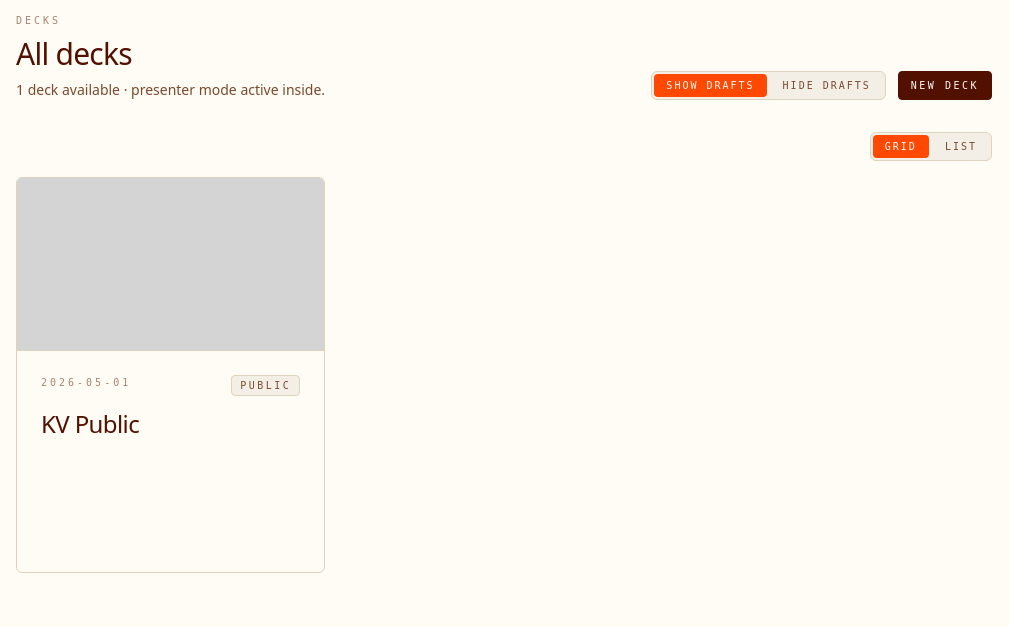
Test case: AdminIndex — KV visibility quick toggle (#214) › POST failure reverts the optimistic visibility state and surfaces an inline error
Click the button with test id "deck-visibility-toggle-kv-public" at (266, 385), box [231,375,300,396]
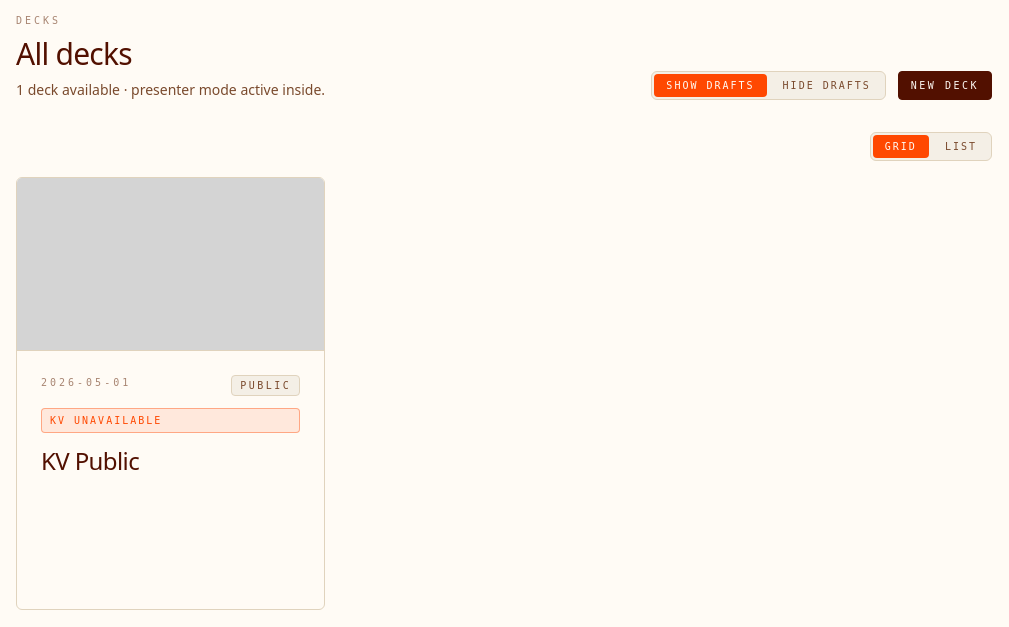
Expected: the message with test id "visibility-toggle-error-kv-public" reads "kv unavailable", [50,415,162,426]
